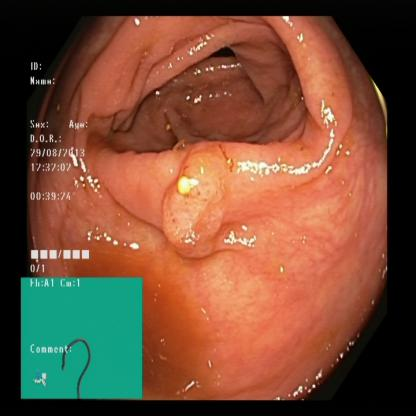Labels: (23, 60, 101, 276), (22, 277, 145, 399)
Polyps: (165, 145, 236, 250)
